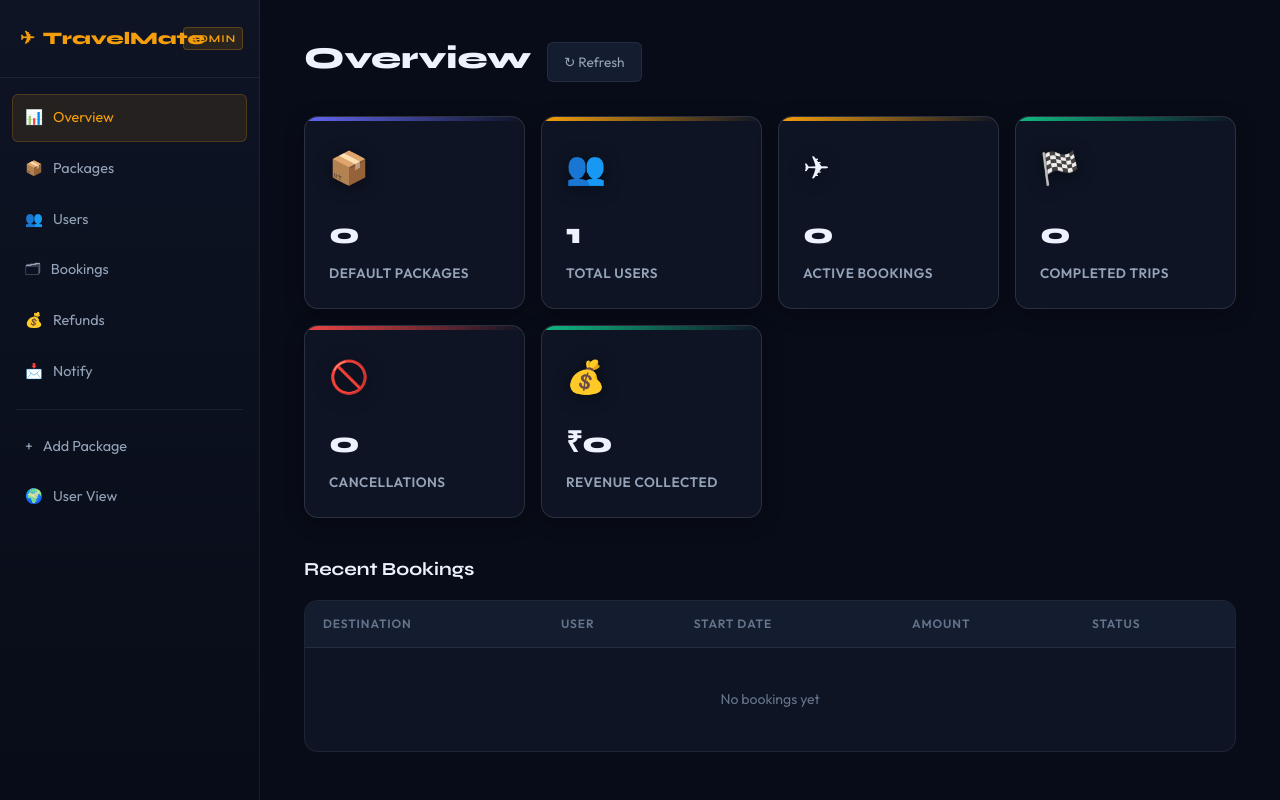
Scenario: AdminDashboard Component › views user bookings modal
Click the text "Users".
click(71, 219)  # box left=53, top=208, right=88, bottom=231
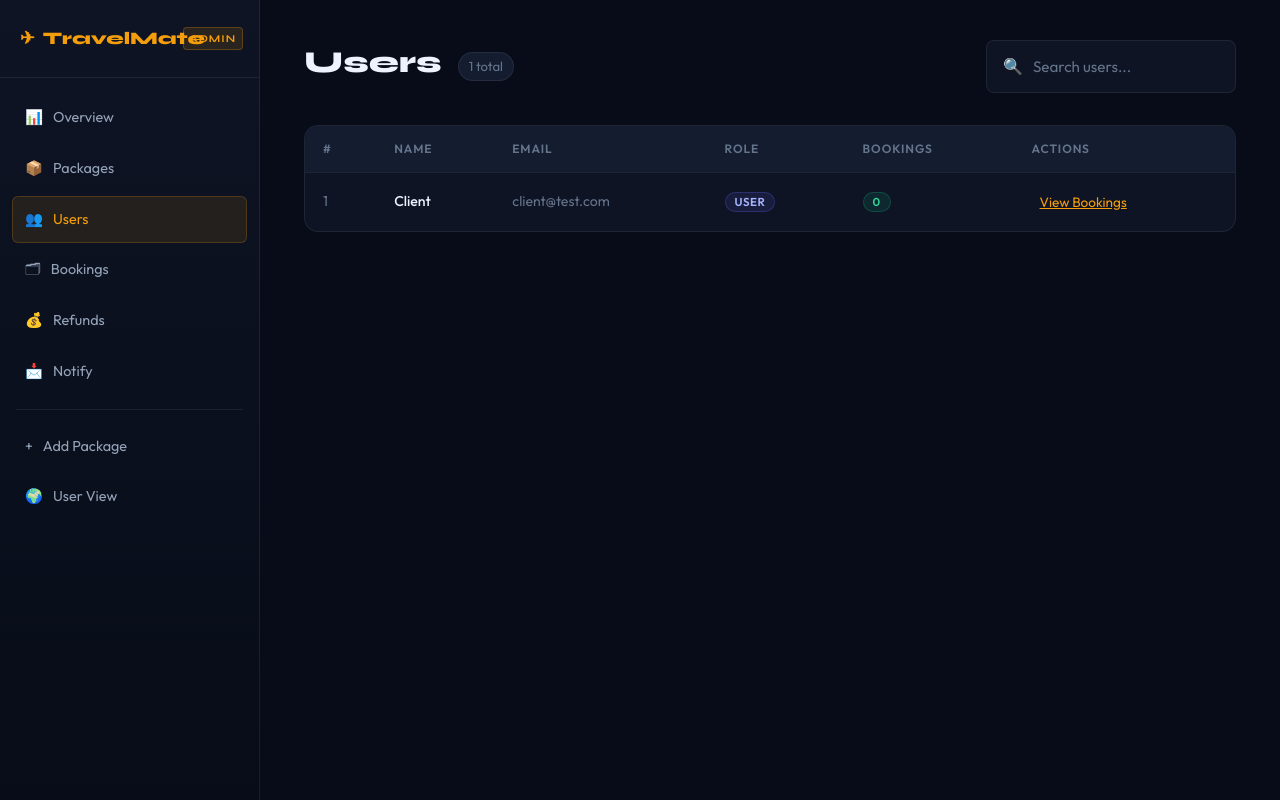
Expected: the text "Client" is shown, left=376, top=172, right=494, bottom=231
Click the button "View Bookings".
click(1083, 202)  # box left=1032, top=187, right=1135, bottom=217
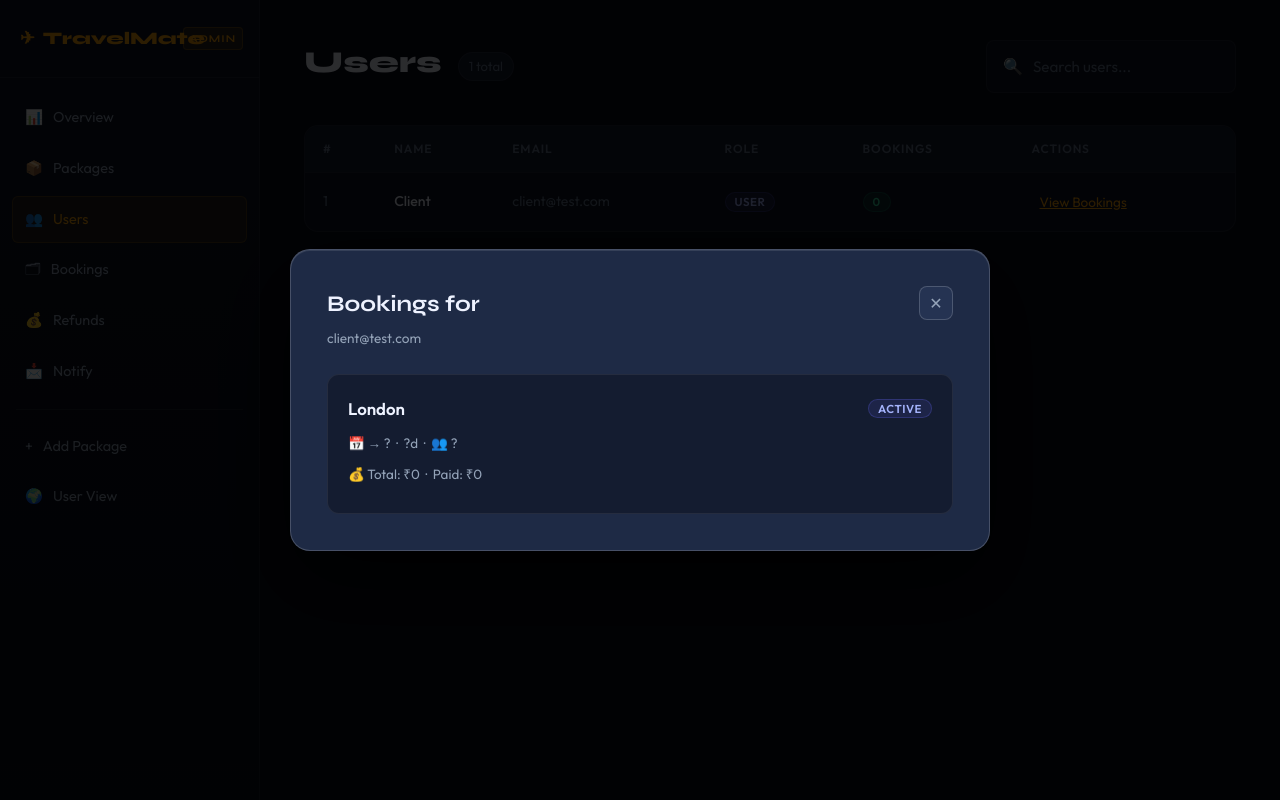
Expected: the text "Bookings for" is shown, left=327, top=286, right=480, bottom=323
Expected: the text "London" is shown, left=348, top=395, right=405, bottom=422
